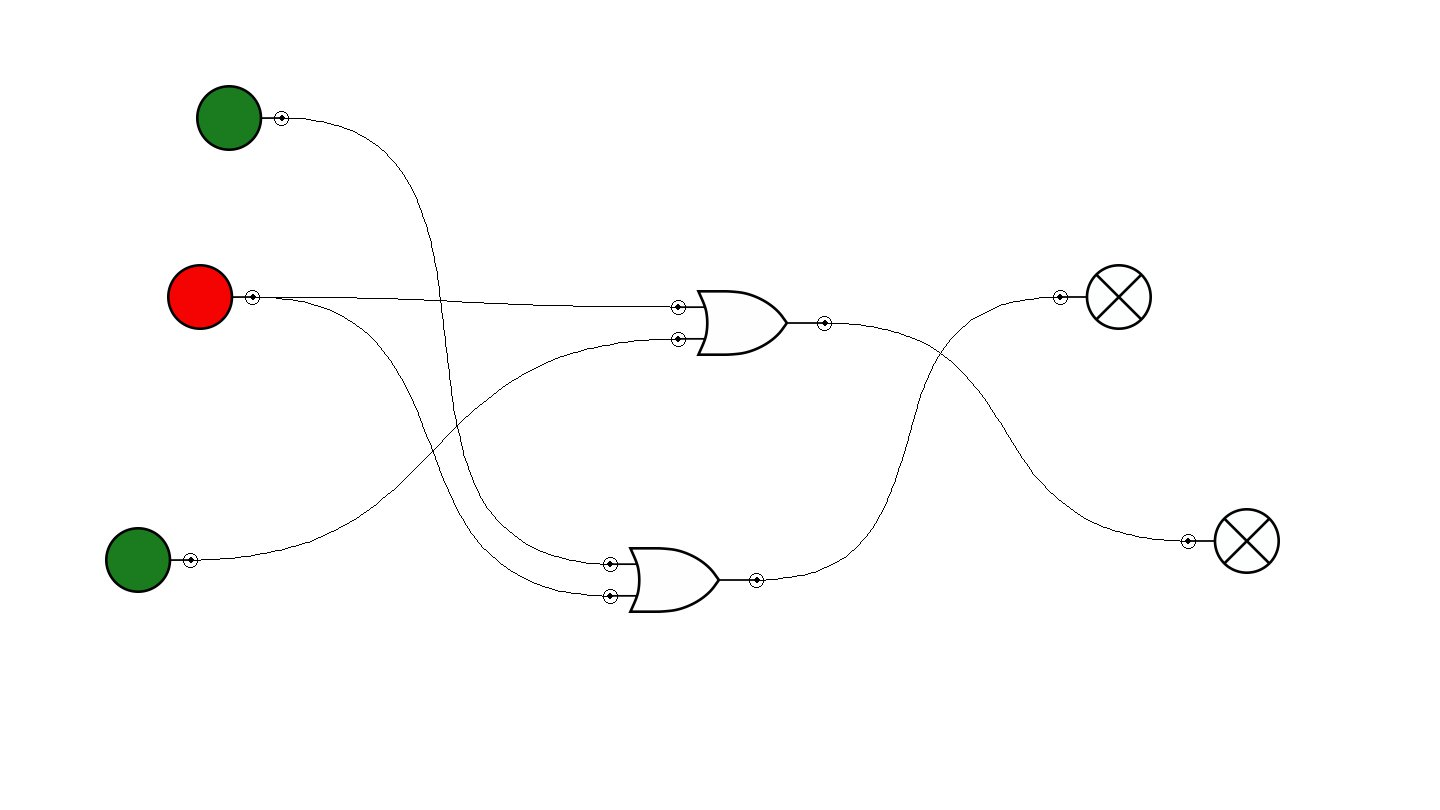bulb: (1181, 508, 1280, 574), (1053, 264, 1152, 330)
or: (671, 290, 832, 356), (603, 547, 764, 613)
switch_False: (167, 264, 260, 330)
switch_True: (105, 527, 198, 593), (196, 85, 289, 151)
